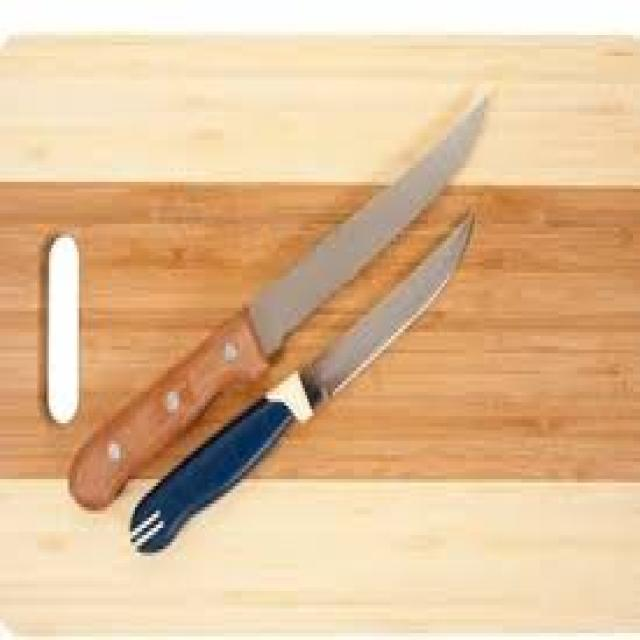Knife: (72, 98, 484, 504), (130, 217, 472, 553)
